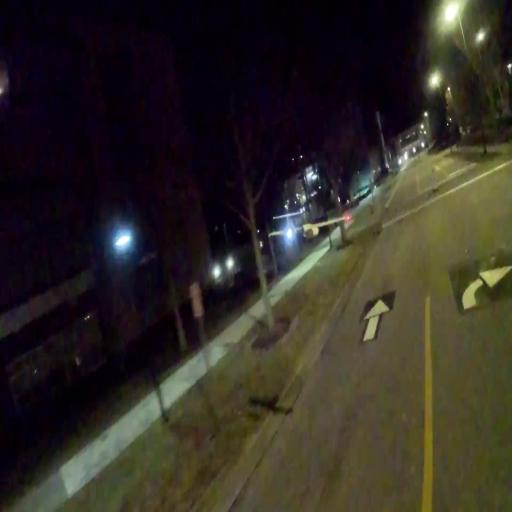uav: (266, 201, 354, 252)
